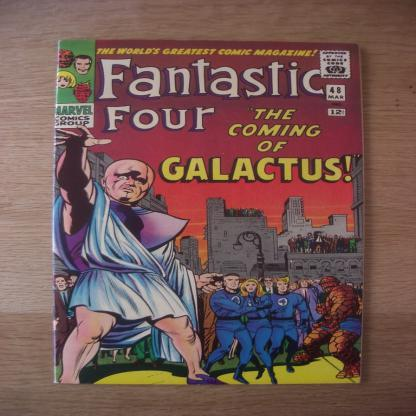book: (54, 39, 367, 385)
